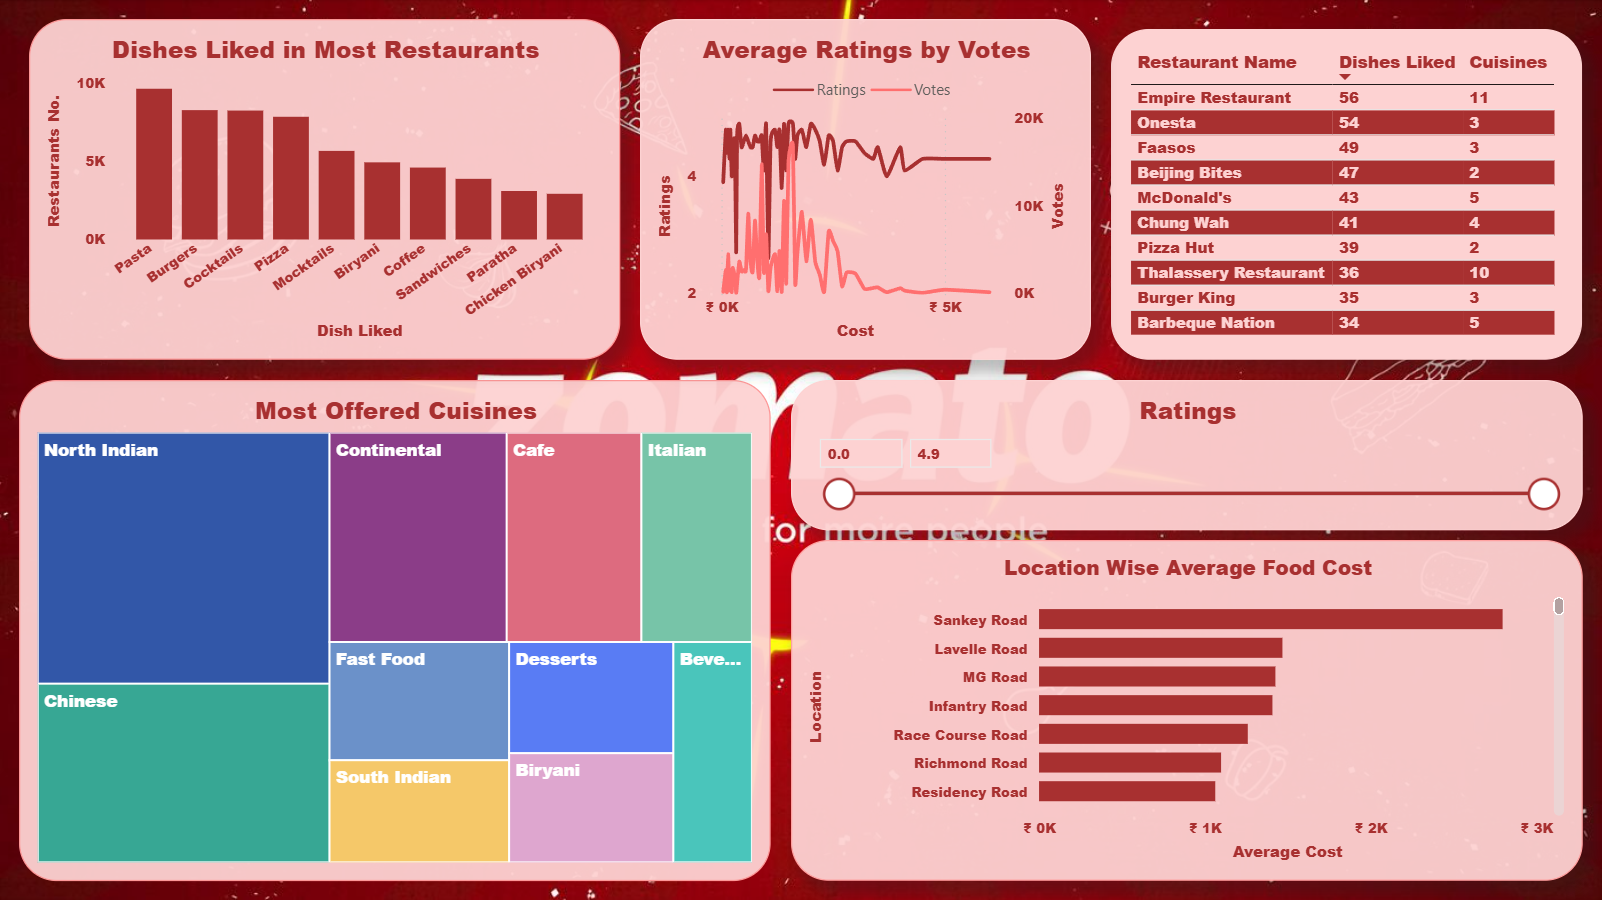

Layout of this report page (visuals, bound fields, positions):
{"tool":"powerbi","page":{"name":"Cuisine Insights","canvas":[1280,720],"ordinal":1},"visuals":[{"type":"image","box":[0,0,1280,720],"z":0},{"type":"treemap","title":"Most Offered Cuisines","fields":{"Group":["cuisines_table.cuisines"],"Values":["CountNonNull(fact_table.Index)"]},"box":[16,304,600,400],"z":1000},{"type":"columnChart","title":"Dishes Liked in Most Restaurants","fields":{"Category":["dishes_table.dish_liked"],"Y":["CountNonNull(fact_table.Index)"]},"box":[24,16,472,272],"z":2000},{"type":"tableEx","fields":{"Values":["fact_table.name","fact_table.dish_liked","fact_table.cuisines"]},"box":[888,24,376,264],"z":3000},{"type":"lineChart","title":"Average Ratings by Votes","fields":{"Y":["Max(main_table2.ratings(out of 5))"],"Category":["main_table2.cost(2 People)"],"Y2":["Max(main_table2.votes)"]},"box":[512,16,360,272],"z":4000},{"type":"slicer","title":"Ratings","fields":{"Values":["main_table2.ratings(out of 5)"]},"box":[632,304,632,120],"z":6000},{"type":"clusteredBarChart","title":"Location Wise Average Food Cost","fields":{"Category":["main_table2.location"],"Y":["Avg(main_table2.cost(2 People))"]},"box":[632,432,632,272],"z":6001}]}

Visuals, with their boxes in screenshot pixels (x1, y1, x2, y2), scaled from the page's 1280x720 canvas onto the 1602x900 screenshot:
image: <box>0,0,1601,899</box>
"Most Offered Cuisines" treemap: <box>20,380,771,880</box>
"Dishes Liked in Most Restaurants" columnChart: <box>30,20,621,360</box>
tableEx - fact_table.name x fact_table.dish_liked: <box>1111,30,1582,360</box>
"Average Ratings by Votes" lineChart: <box>641,20,1091,360</box>
"Ratings" slicer: <box>791,380,1582,530</box>
"Location Wise Average Food Cost" clusteredBarChart: <box>791,540,1582,880</box>
